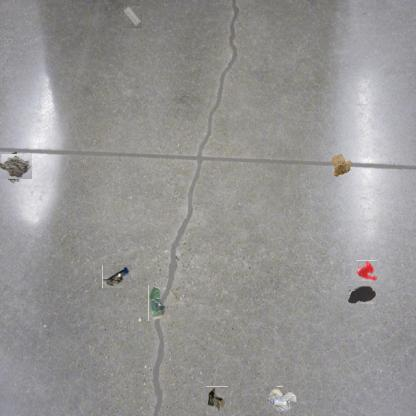dirty: (0, 150, 29, 182), (266, 386, 296, 414), (328, 152, 356, 178), (102, 264, 131, 288), (148, 285, 167, 321), (206, 386, 228, 415), (124, 6, 142, 28)
liquid: (348, 286, 376, 304), (355, 260, 377, 281)
